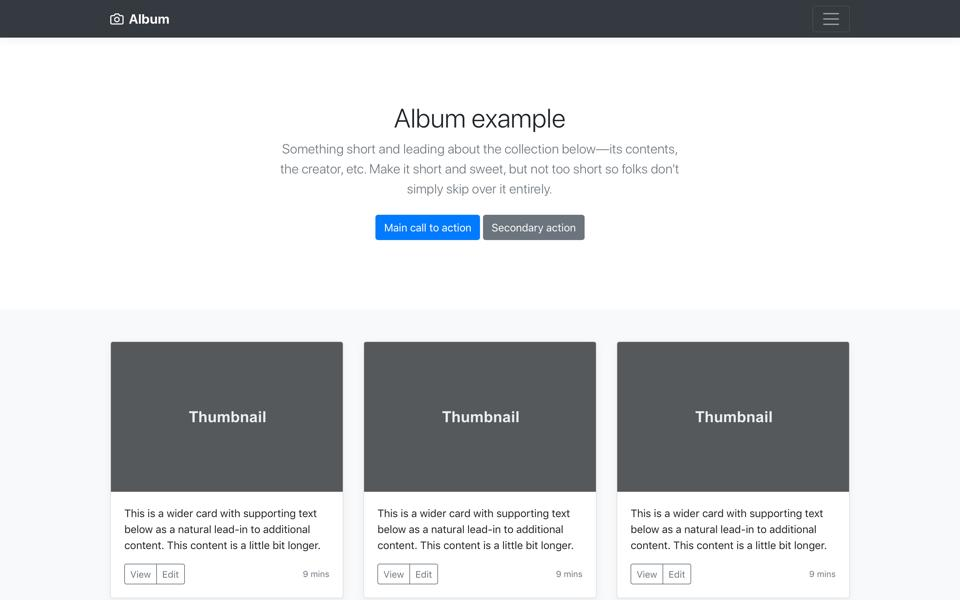button: (480, 210, 600, 245), (369, 211, 482, 241)
